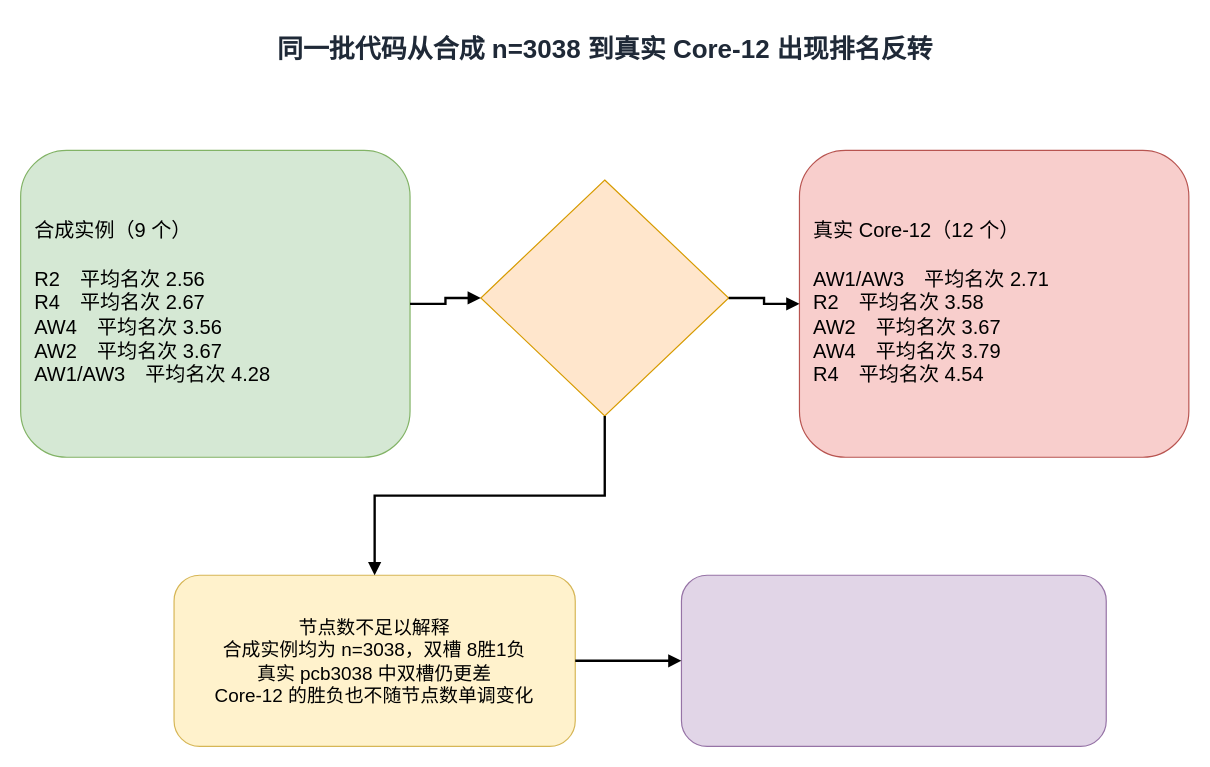
The diagram is 1210 pixels wide and 767 high, and some of its shapes have lost their labels. The shapes that lost their labels are listed below. From the top down, each one's box as (x1, y1, x2, y2) in pixels, then its label:
(480, 179, 729, 416): 六条代码的平均名次相关：-0.65 不是轻微波动，而是整体顺序反转
(680, 574, 1106, 746): 剩余解释：点集几何结构 下一步提取长宽比、邻点距离波动、空间聚集度 只做探索性关联，不用 12 个实例宣称因果
